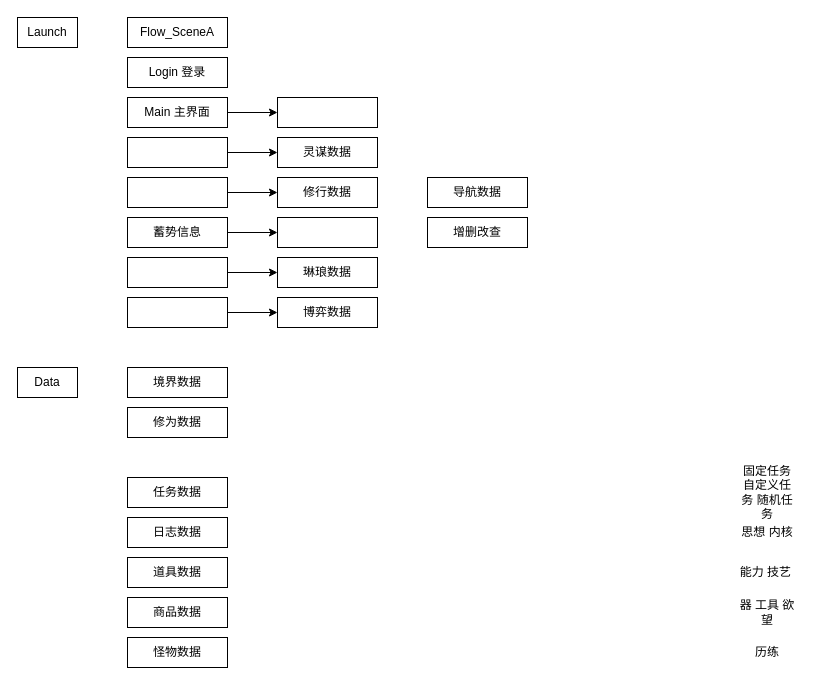
This 815x685 diagram has some shape labels left out. The shapes that lost their labels are listed below. From the top down, each one's centre as x and y in pixels, then its label:
[327,112]: 用户数据
[177,152]: 灵谋信息
[177,192]: 修行信息
[327,232]: 蓄势数据
[177,272]: 琳琅信息
[177,312]: 博弈信息
